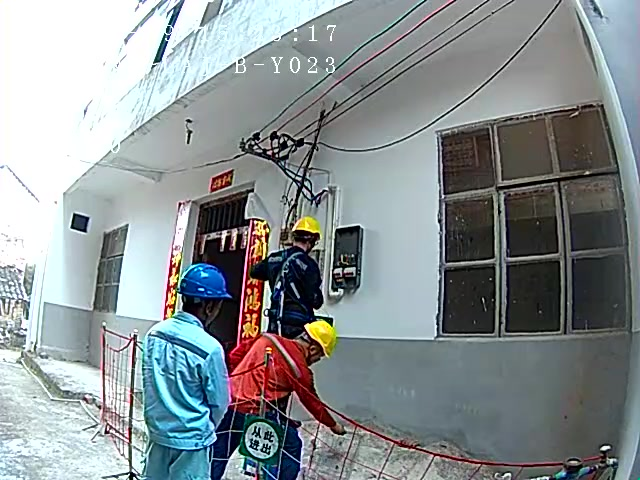downcloth: (211, 409, 303, 480)
halt: (179, 262, 234, 320), (298, 320, 337, 367), (290, 216, 323, 252)
hand: (328, 420, 346, 437)
inear: (198, 296, 216, 317), (306, 343, 322, 361)
intosign: (239, 413, 291, 466)
person: (129, 261, 242, 480), (249, 215, 330, 330)
safebelt: (265, 248, 318, 328)
upsuit: (140, 315, 230, 445), (259, 250, 323, 320)
